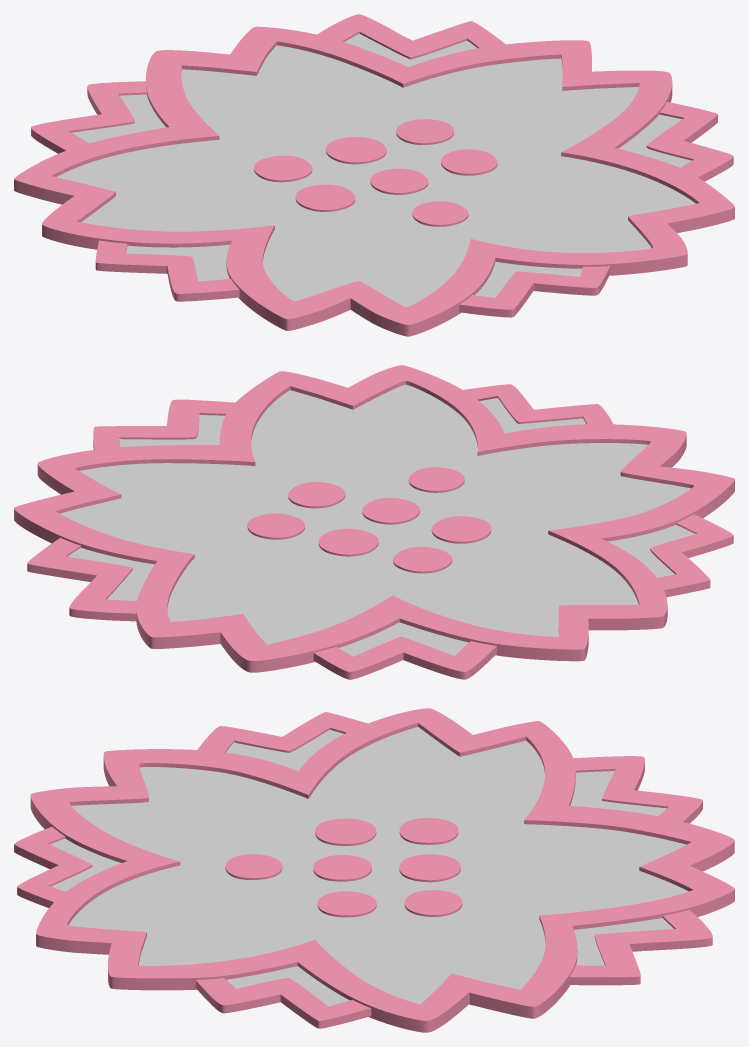
Rendered from emoji_u1f4ae.glb.
3 views of the same model, one above another, from view 1: azimuth 30°, elevation 25°; view 2: azimuth 150°, elevation 25°; view 3: azimuth 270°, elevation 25° (orthographic). The views are drawn at different scales.
Visible parts, largest first — view 1: emoji_u1f4ae; view 2: emoji_u1f4ae; view 3: emoji_u1f4ae.
Boxes of the visible parts, x1,y1,x2,y2 form: emoji_u1f4ae: [14, 14, 734, 336]; emoji_u1f4ae: [14, 365, 734, 679]; emoji_u1f4ae: [14, 708, 734, 1032].
Bounding box in the file's own units: 0.0339 × 0.0006 × 0.033.
